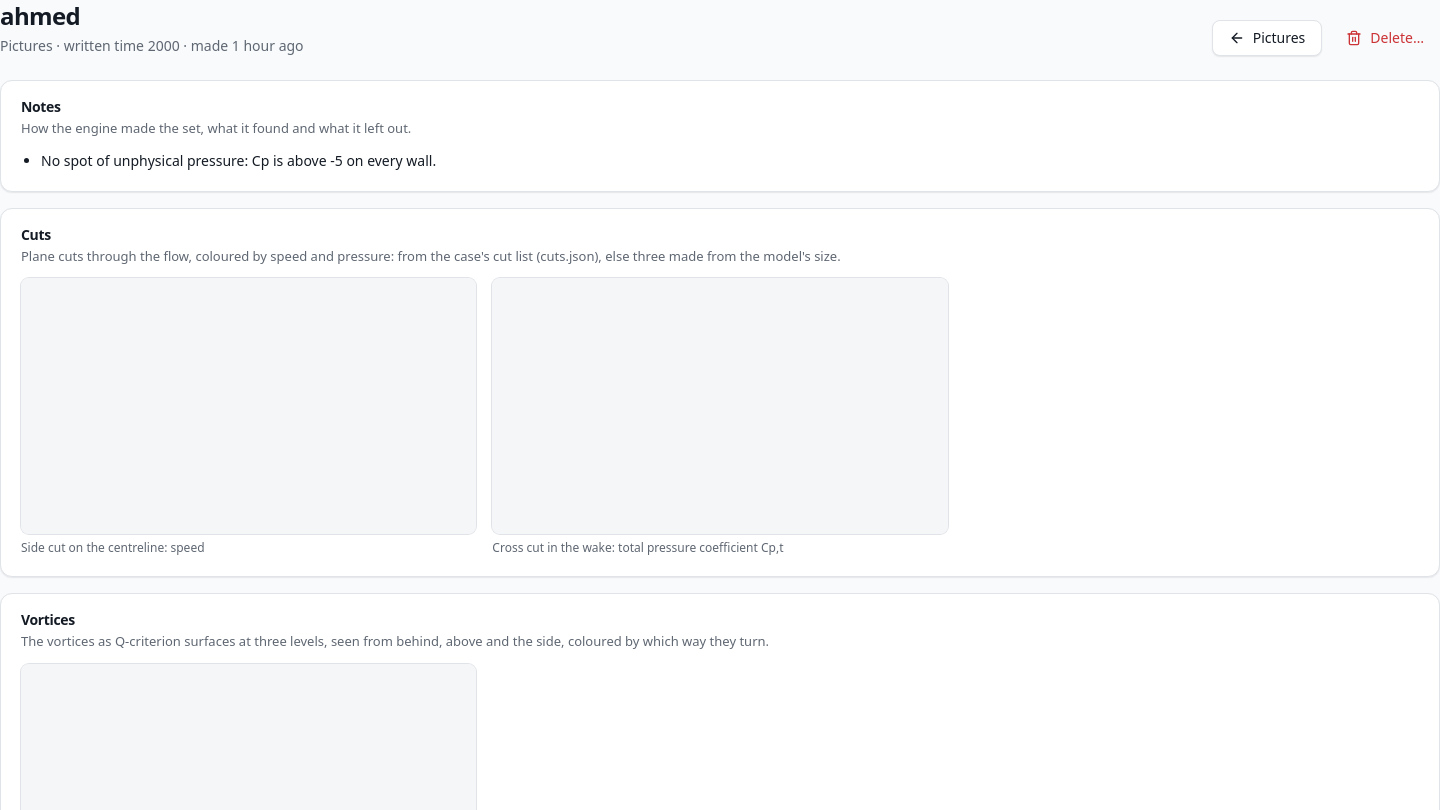
it: a set of pictures › opens a picture large, goes on with the arrow keys, saves it as a PNG named after its set, and closes on it
The width and height of the screenshot is (1440, 810).
Click the button "Side cut on the centreline: speed" at {"x": 249, "y": 417}, box x1=21 y1=278 x2=476 y2=556
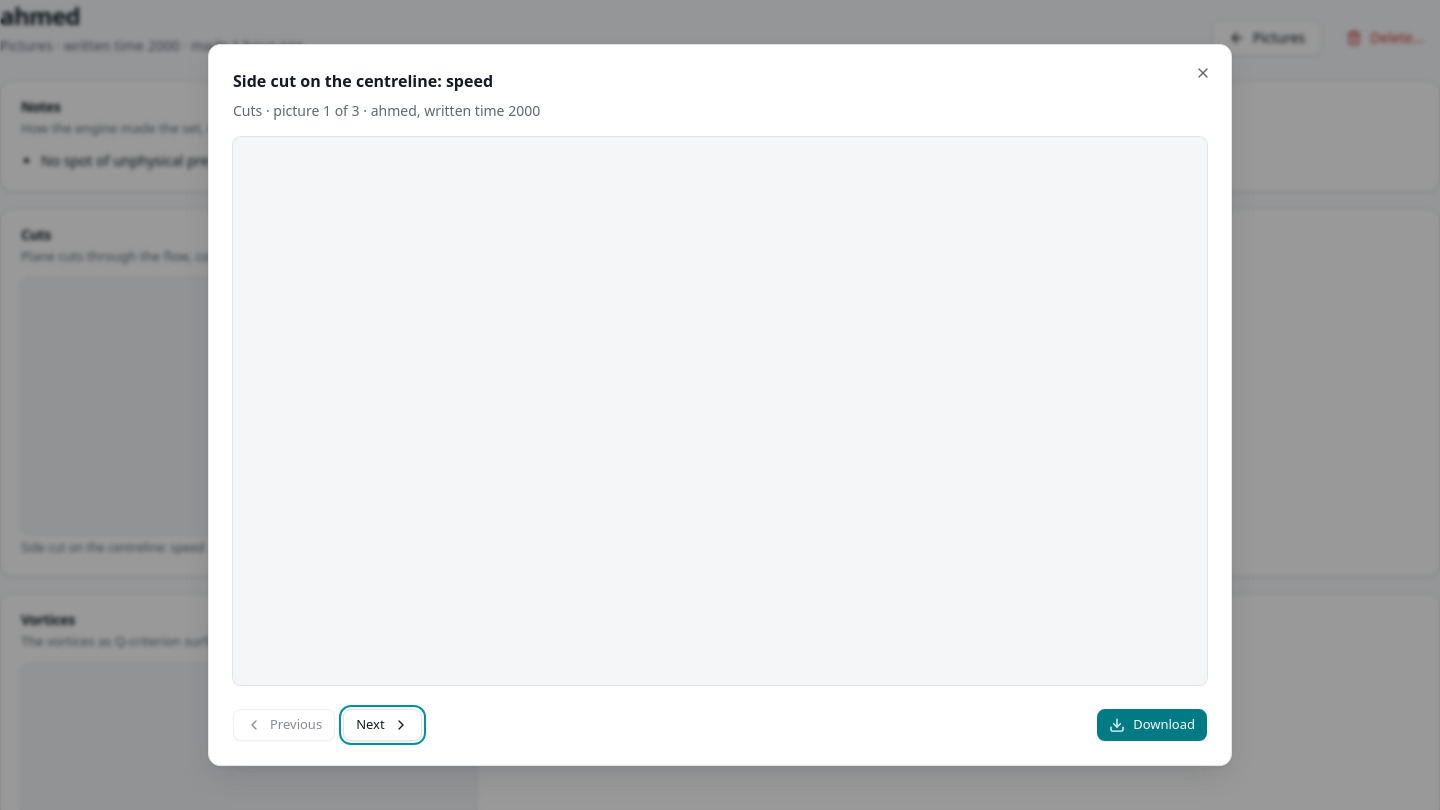
Result: the dialog "Side cut on the centreline: speed" shows "Cuts · picture 1 of 3 · ahmed, written time 2000"
Result: the button "Previous" is disabled at x1=233 y1=709 x2=335 y2=741
Press Arrowright
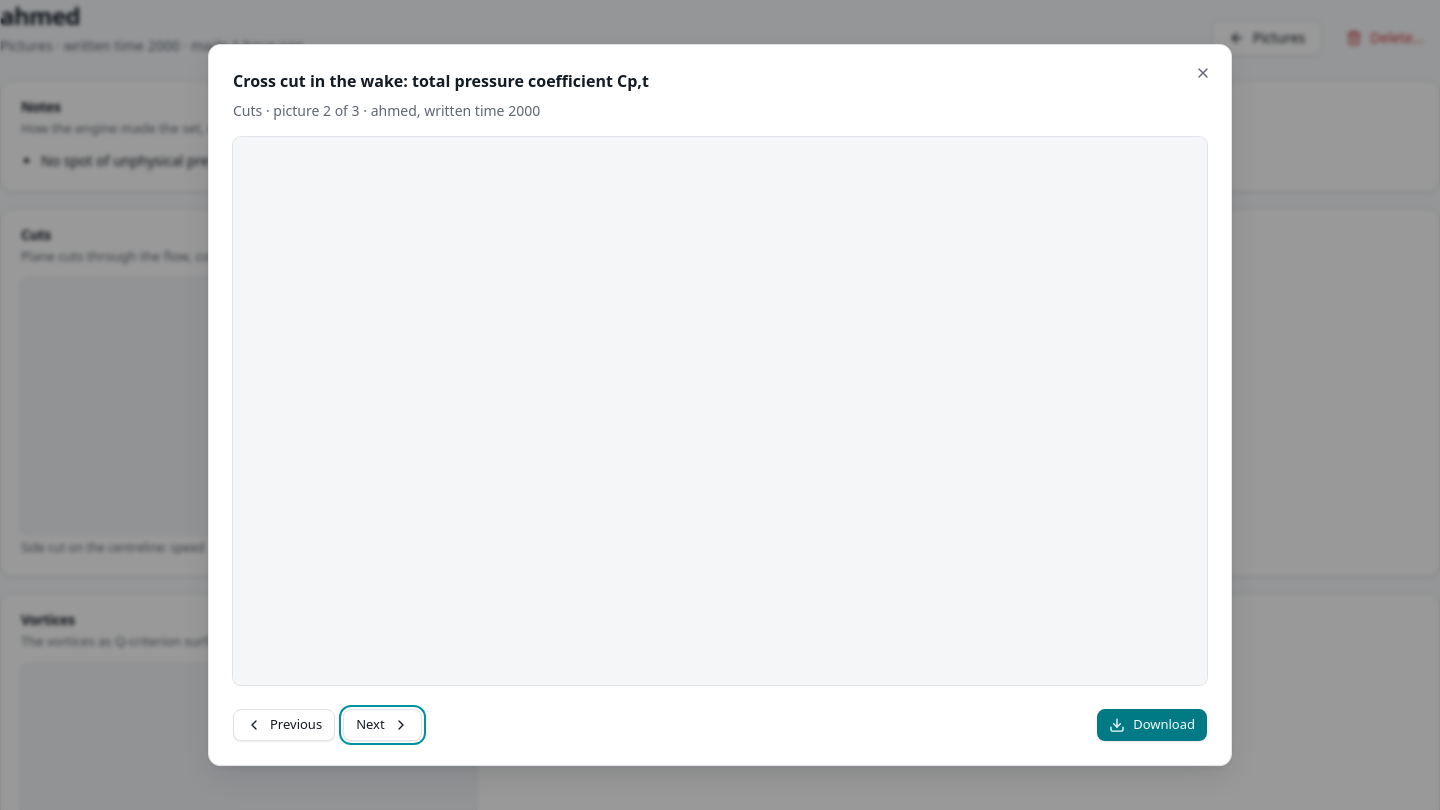
Result: the dialog "Cross cut in the wake: total pressure coefficient Cp,t" shows "picture 2 of 3"
Click the button "Next" at {"x": 382, "y": 725}, box x1=343 y1=709 x2=422 y2=741
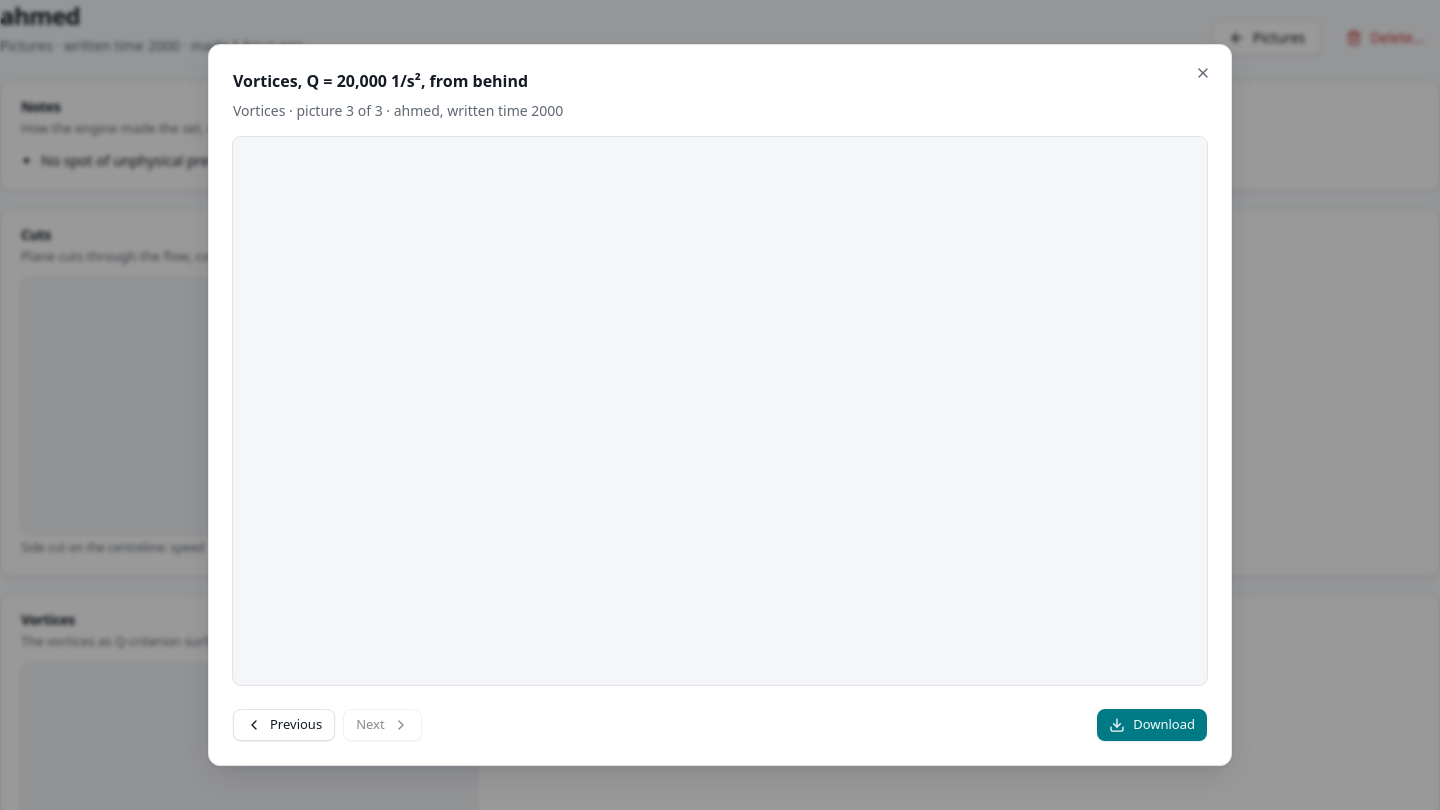
Result: the button "Download" is enabled
Result: the dialog "Vortices, Q = 20,000 1/s², from behind" shows "Vortices · picture 3 of 3"
Result: the button "Next" is disabled at x1=343 y1=709 x2=422 y2=741
Click the button "Download" at {"x": 1152, "y": 725}, box x1=1097 y1=709 x2=1207 y2=741
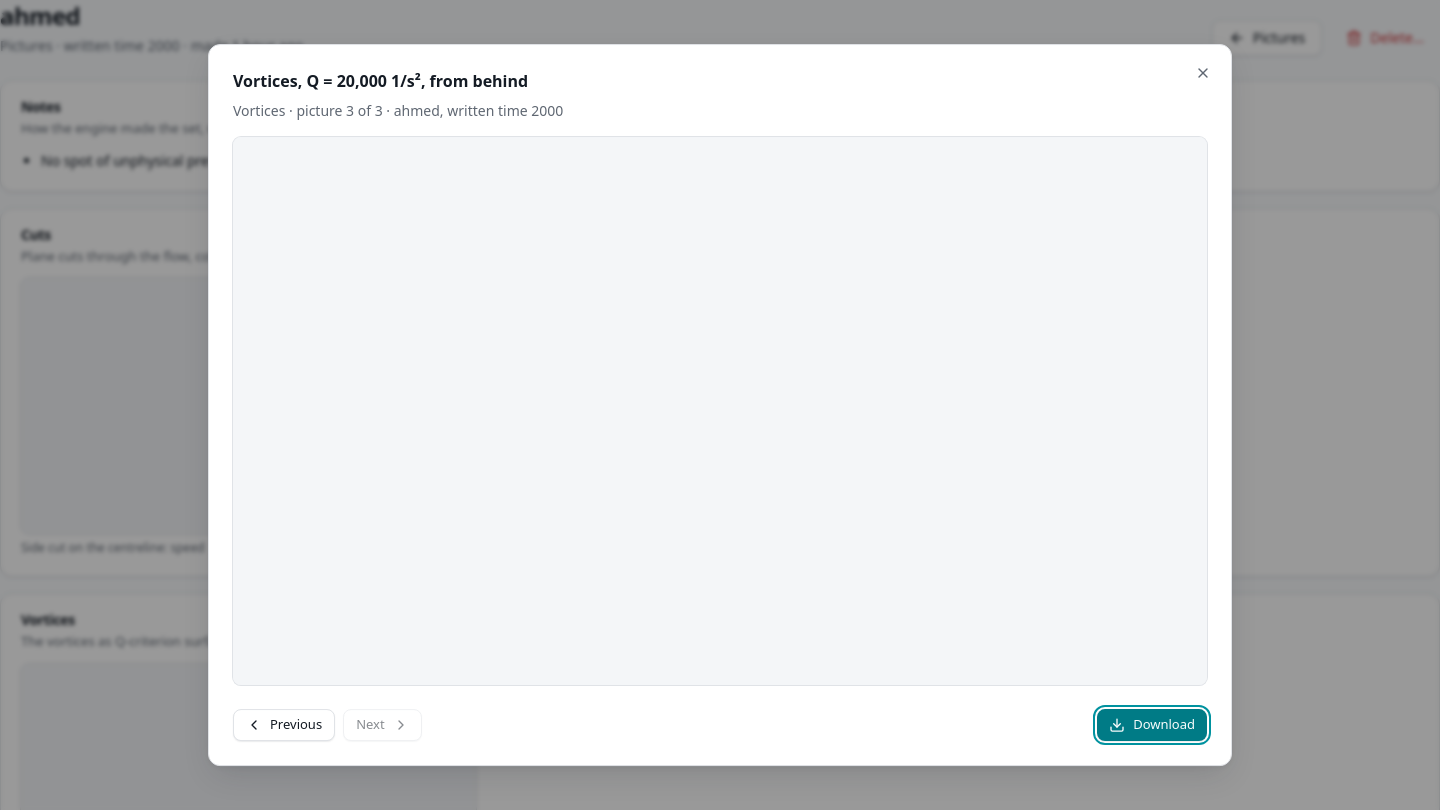
Press Escape
(page scrolled)
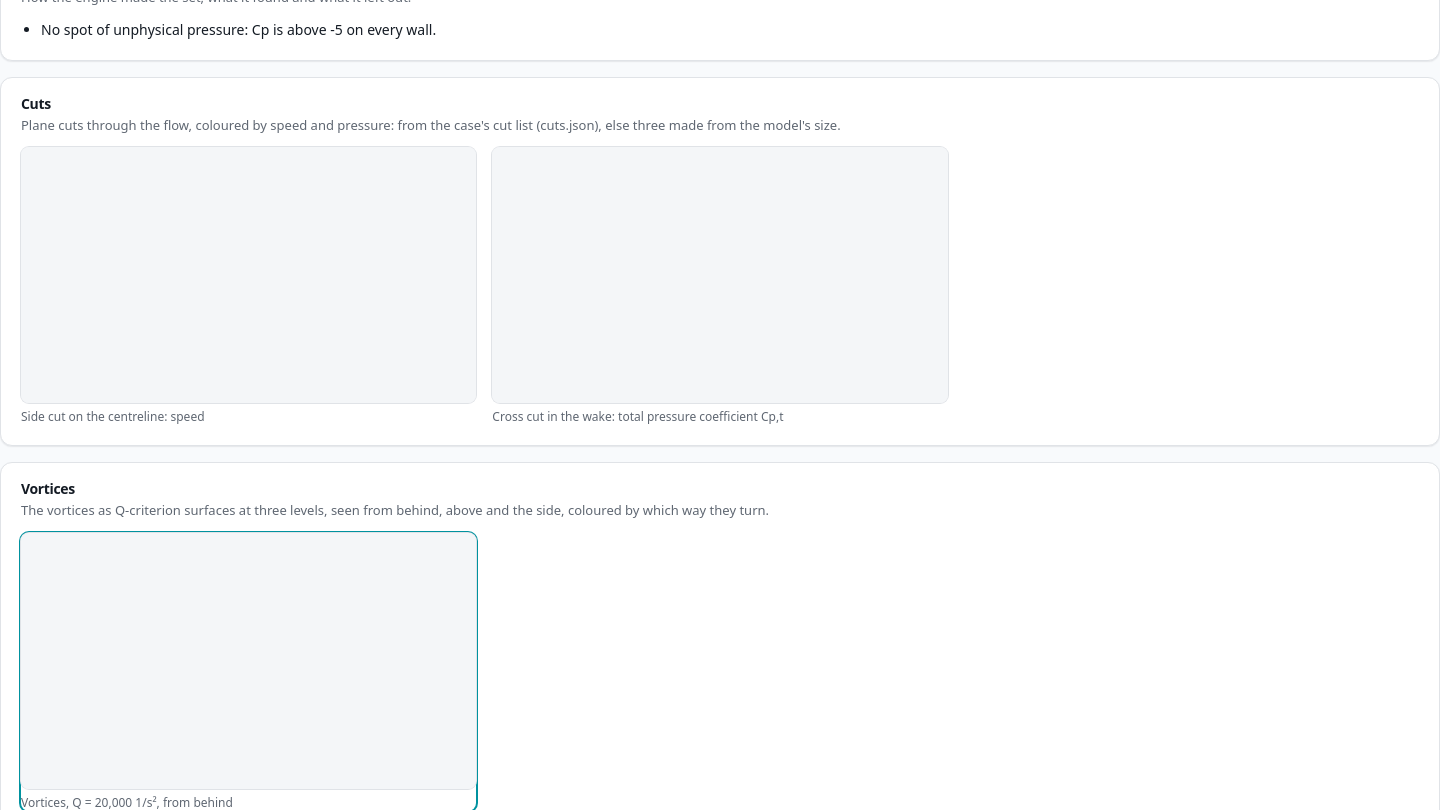
Result: the dialog is gone
